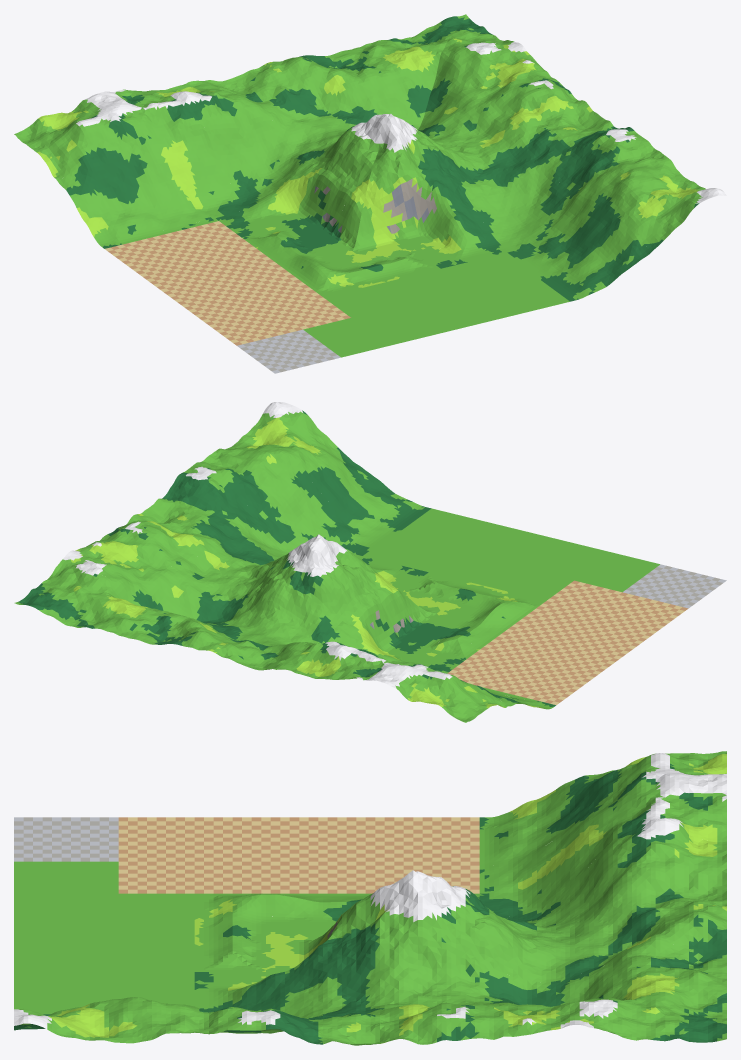
Rendered from Terrain_NE.fbx.
3 renders of one model, top to bottom at view 1: azimuth 30°, elevation 25°; view 2: azimuth 150°, elevation 25°; view 3: azimuth 270°, elevation 25°, orthographic. The views are drawn at different scales.
Parts seen in each view (by area): view 1: Chunk_9_8, Chunk_7_10, Chunk_6_10, Chunk_8_10, Chunk_8_9, Chunk_10_8, Chunk_10_6, Chunk_6_11, Chunk_9_11, Chunk_8_8, Chunk_10_7, Chunk_11_9 (+24 smaller); view 2: Chunk_8_9, Chunk_11_8, Chunk_10_6, Chunk_11_7, Chunk_9_10, Chunk_9_9, Chunk_10_7, Chunk_11_11, Chunk_11_6, Chunk_11_10, Chunk_7_8, Chunk_6_6 (+21 smaller); view 3: Chunk_8_11, Chunk_9_9, Chunk_10_9, Chunk_7_10, Chunk_7_11, Chunk_8_7, Chunk_9_10, Chunk_6_7, Chunk_6_8, Chunk_6_9, Chunk_6_6, Chunk_7_6 (+21 smaller).
Part boxes in pixels (x1,y1,x2,y2): Chunk_9_8: (371,149,488,254); Chunk_7_10: (133,126,251,227); Chunk_6_10: (57,149,175,246); Chunk_8_10: (208,120,326,206); Chunk_8_9: (252,145,369,240); Chunk_10_8: (446,146,564,230); Chunk_10_6: (533,205,651,299); Chunk_6_11: (14,97,132,180); Chunk_9_11: (240,55,358,122); Chunk_8_8: (295,175,413,270); Chunk_10_7: (489,187,607,268); Chunk_11_9: (478,75,595,145); Chunk_8_9: (327,573,445,662); Chunk_11_8: (144,469,262,543); Chunk_10_6: (307,459,424,538); Chunk_11_7: (188,446,306,520); Chunk_9_10: (212,584,326,646); Chunk_9_9: (252,534,370,611); Chunk_10_7: (263,475,381,556); Chunk_11_11: (14,565,125,627); Chunk_11_6: (232,402,349,474); Chunk_11_10: (58,537,175,604); Chunk_7_8: (447,602,564,657); Chunk_6_6: (608,562,726,612); Chunk_8_11: (608,821,726,916); Chunk_9_9: (370,870,489,965); Chunk_10_9: (370,943,489,1011); Chunk_7_10: (489,803,608,916); Chunk_7_11: (608,773,726,846); Chunk_8_7: (132,911,251,967); Chunk_9_10: (489,909,608,982); Chunk_6_7: (132,817,251,867); Chunk_6_8: (251,817,370,867); Chunk_6_9: (370,817,489,867); Chunk_6_6: (14,817,132,867); Chunk_7_6: (14,867,132,917).
Bounding box in the file's own units: 1500 × 283 × 1500.
Materials: 1 (1 with a texture image).
